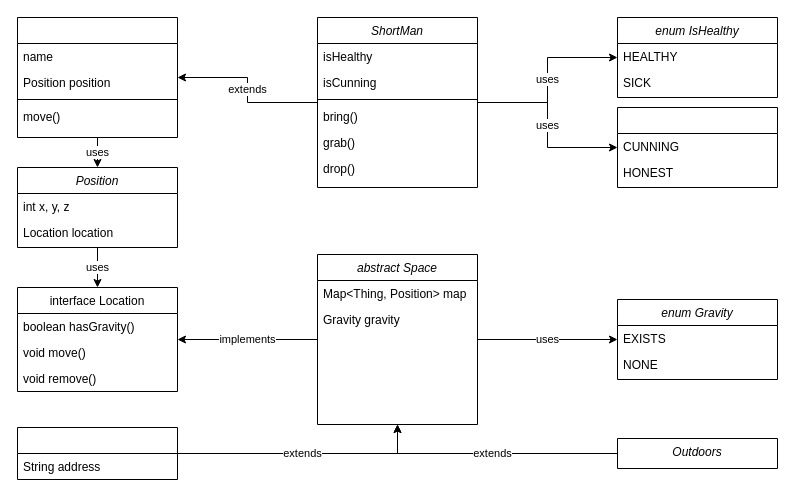
Image size: 795x500. Some labels were removed from this diagram. Each missing label, with the box of its shape:
enum IsCunnning: (616, 106, 778, 188)
House: (16, 426, 178, 480)
Thing: (16, 16, 178, 138)
